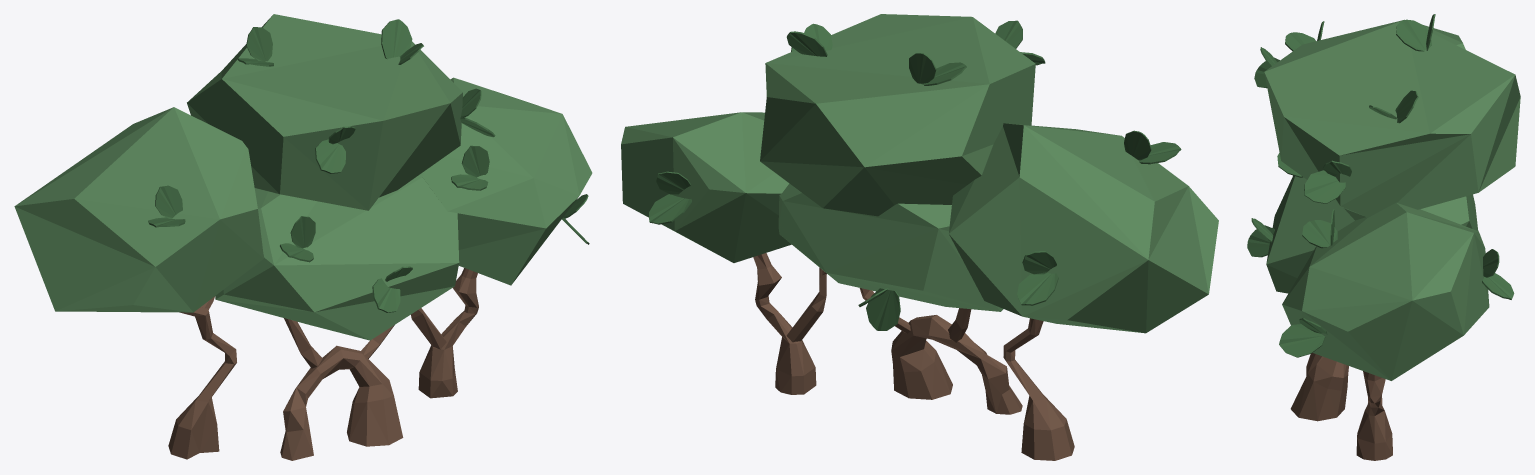
File: _bush_5.glb
3 renders of one model, left to right at view 1: azimuth 30°, elevation 25°; view 2: azimuth 150°, elevation 25°; view 3: azimuth 270°, elevation 25°, orthographic. The views are drawn at different scales.
Parts seen in each view (by area): view 1: bush_5; view 2: bush_5; view 3: bush_5.
Boxes of the visible parts, bbox=[...] form: bush_5: bbox=[14, 14, 592, 460]; bush_5: bbox=[621, 14, 1218, 460]; bush_5: bbox=[1247, 14, 1520, 460].
Bounding box in the file's own units: 1.72 × 1.17 × 0.7916.
Materials: 1 (1 with a texture image).
